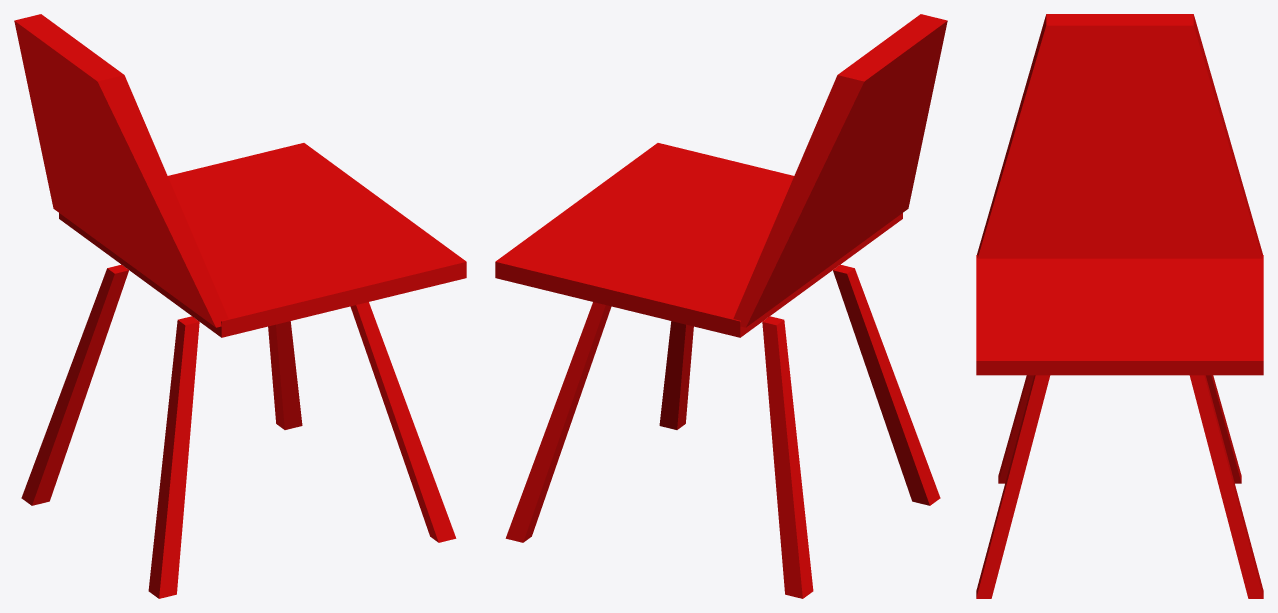
Rendered from CourtSeatCollider.fbx.
3 renders of one model, left to right at view 1: azimuth 30°, elevation 25°; view 2: azimuth 150°, elevation 25°; view 3: azimuth 270°, elevation 25°, orthographic. The views are drawn at different scales.
Visible parts, largest first — view 1: CourtSeatCollision; view 2: CourtSeatCollision; view 3: CourtSeatCollision.
Boxes of the visible parts, x1,y1,x2,y2 form: CourtSeatCollision: (14, 14, 466, 598); CourtSeatCollision: (495, 14, 947, 598); CourtSeatCollision: (976, 14, 1263, 598).
Size of the model in its own units: 74.68 by 110 by 63.83.
